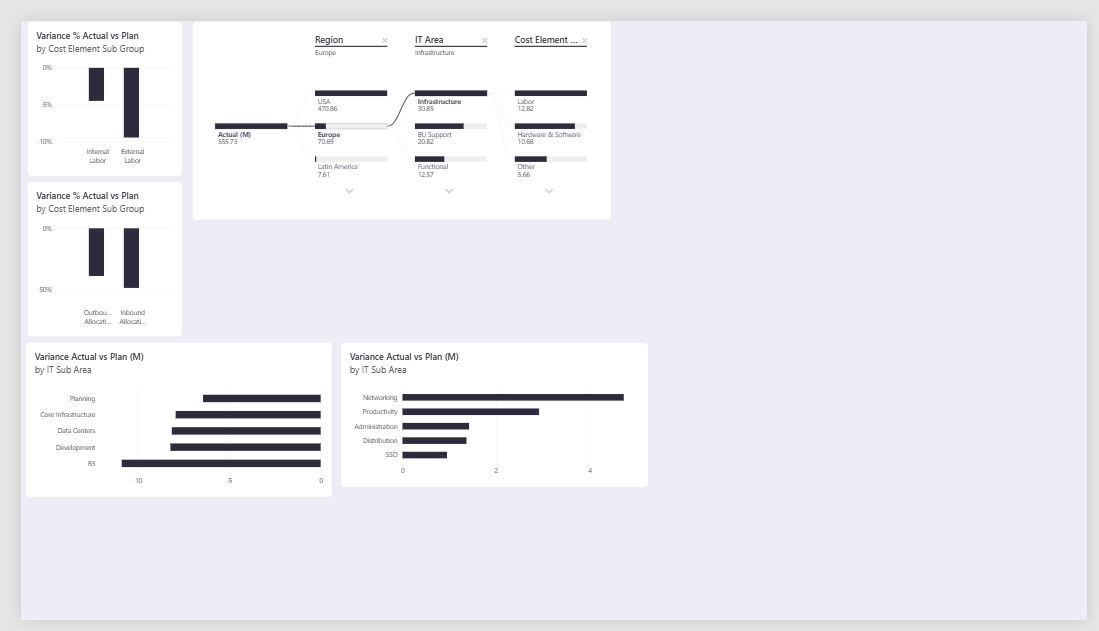

This screenshot's page, from the dashboard's own definition file:
{"tool":"powerbi","page":{"name":"Drilldown","canvas":[1920,1080],"ordinal":2},"visuals":[{"type":"clusteredColumnChart","fields":{"Category":["IT_Spend.Cost Element Sub Group"],"Y":["IT_Spend.Variance % Actual vs Plan"]},"box":[10,0,280,280],"z":0},{"type":"clusteredColumnChart","fields":{"Category":["IT_Spend.Cost Element Sub Group"],"Y":["IT_Spend.Variance % Actual vs Plan"]},"box":[10,290,280,280],"z":1000},{"type":"clusteredBarChart","fields":{"Category":["IT_Spend.IT Sub Area"],"Y":["IT_Spend.Variance Actual vs Plan (M)"]},"box":[9.4,579.7,553.1,279.7],"z":2000},{"type":"decompositionTreeVisual","fields":{"Analyze":["IT_Spend.Actual (M)"],"ExplainBy":["IT_Spend.Region","IT_Spend.IT Area","IT_Spend.Cost Element Group"]},"box":[309.4,0,756.2,359.4],"z":3000},{"type":"clusteredBarChart","fields":{"Category":["IT_Spend.IT Sub Area"],"Y":["IT_Spend.Variance Actual vs Plan (M)"]},"box":[575,579.7,554.7,262.5],"z":4000}]}

Visuals, with their boxes in screenshot pixels (x1, y1, x2, y2), scaled from the page's 1920x1080 canvas onto the 1099x631 screenshot:
clusteredColumnChart - IT_Spend.Cost Element Sub Group x IT_Spend.Variance % Actual vs Plan: region(6, 0, 166, 164)
clusteredColumnChart - IT_Spend.Cost Element Sub Group x IT_Spend.Variance % Actual vs Plan: region(6, 169, 166, 333)
clusteredBarChart - IT_Spend.IT Sub Area x IT_Spend.Variance Actual vs Plan (M): region(5, 339, 322, 502)
decompositionTreeVisual - IT_Spend.Actual (M) x IT_Spend.Region: region(177, 0, 610, 210)
clusteredBarChart - IT_Spend.IT Sub Area x IT_Spend.Variance Actual vs Plan (M): region(329, 339, 647, 492)
